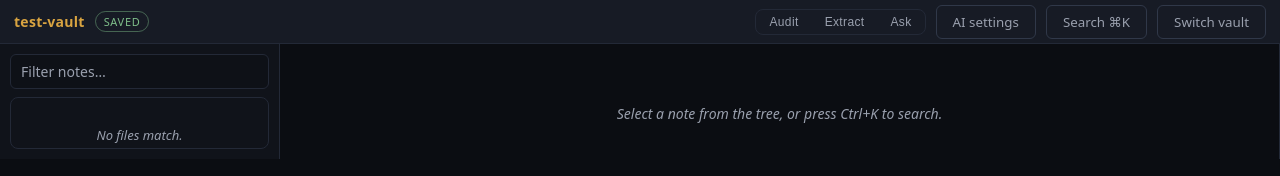
it: App — AI right rail (M2 I1) › Extract tab with no note open shows the open-a-note hint, not the panel
The image size is (1280, 176).
Click the button "Extract".
click(845, 22)  # box [812, 10, 878, 34]
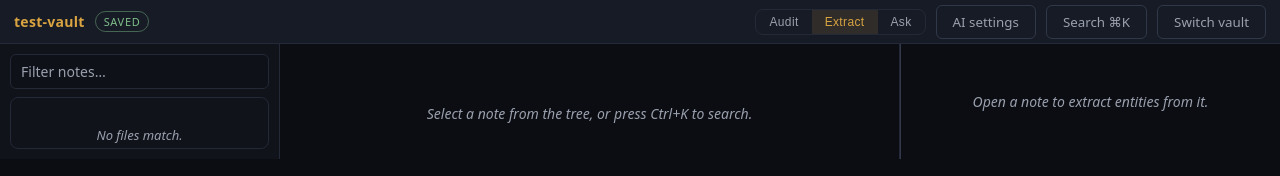
Expected: the text "Extract entities" is not shown
Expected: the text "Open a note to extract entities" is shown, [973, 92, 1208, 111]
